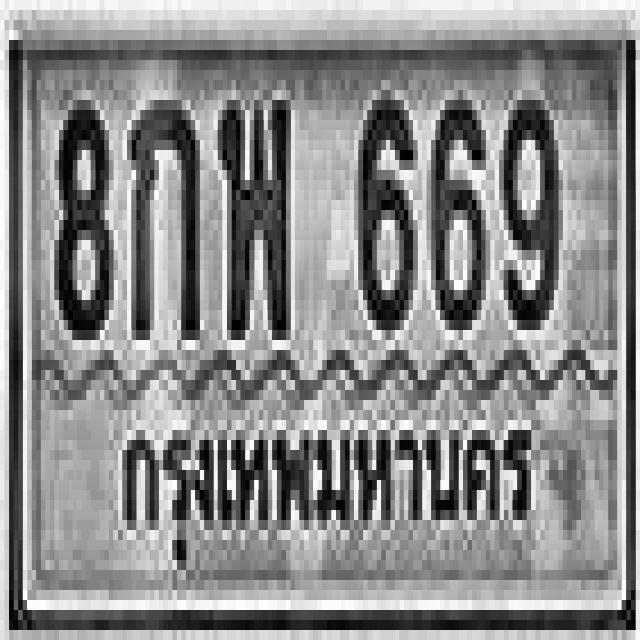license-plate: (9, 31, 630, 622)
